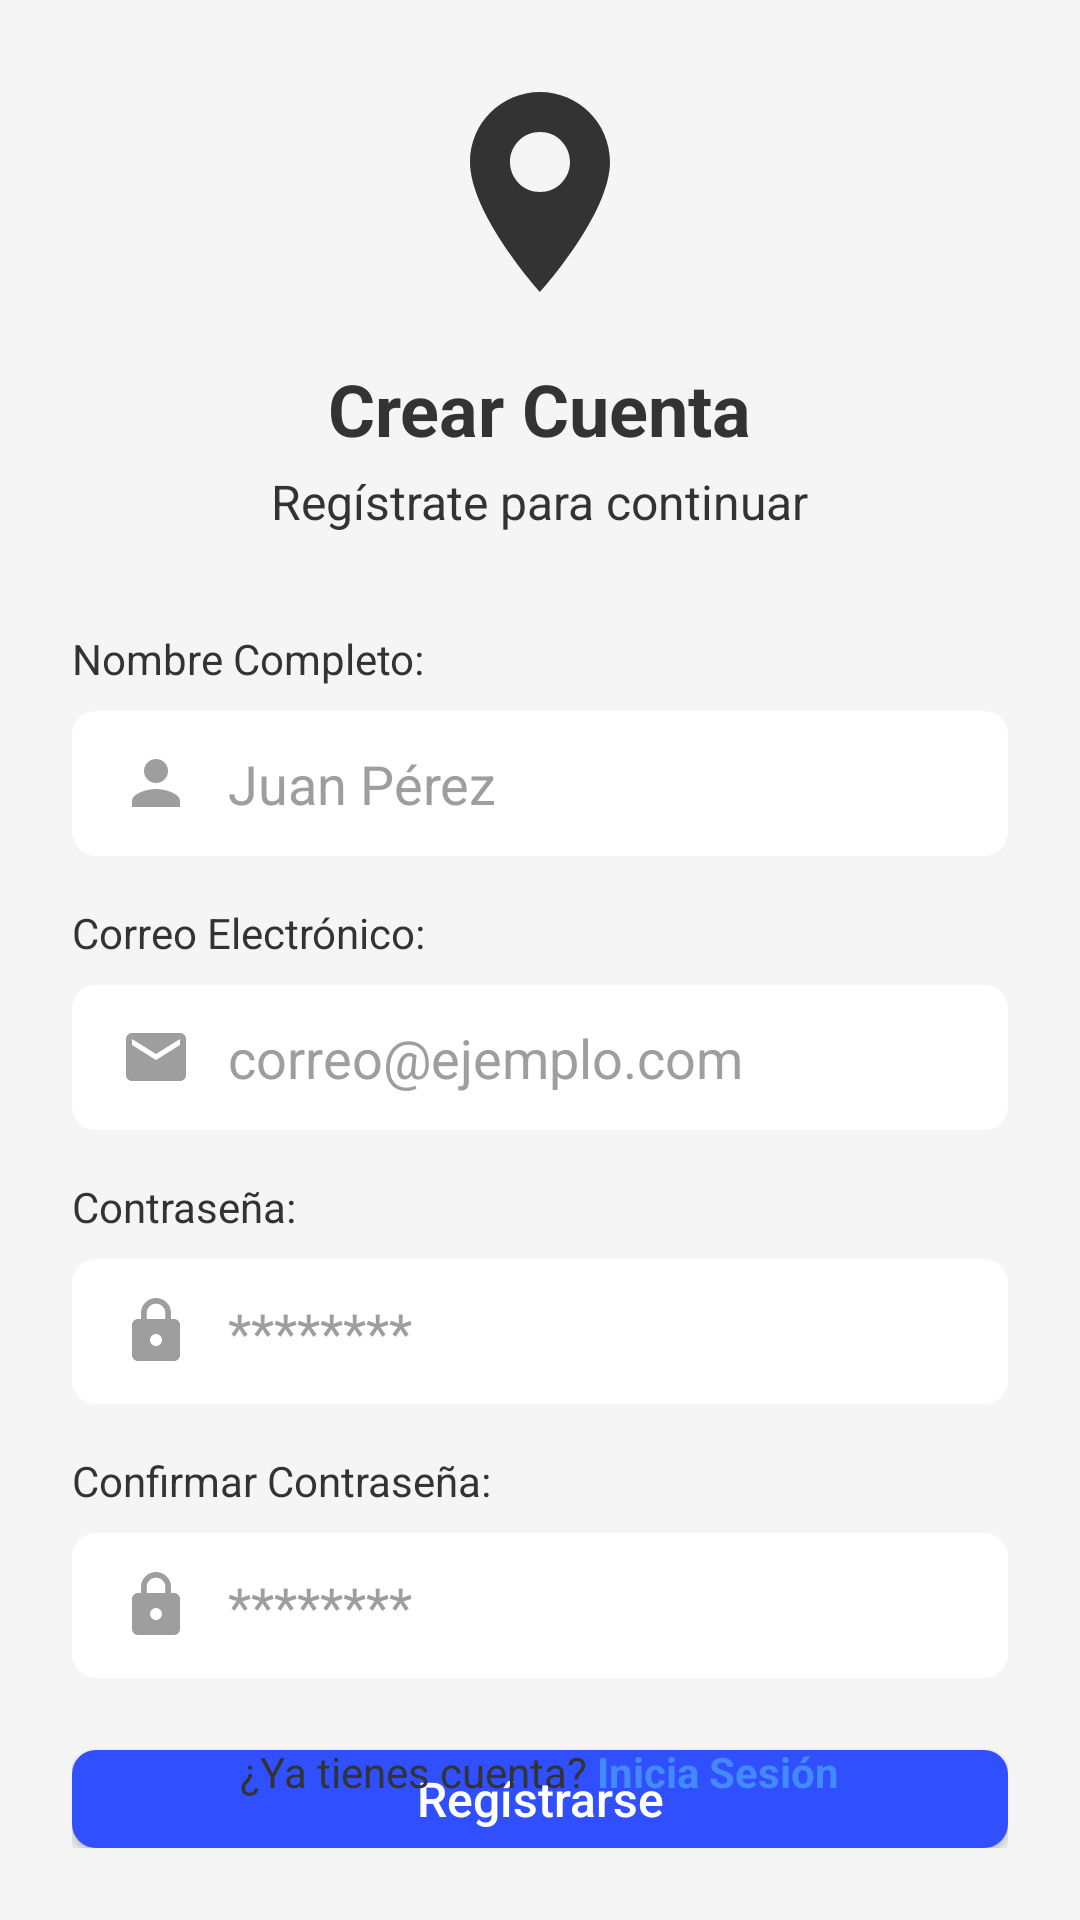

Icon click points for this 1080x1920 phone screenshot, format point (x, y):
location: point (540, 192)
